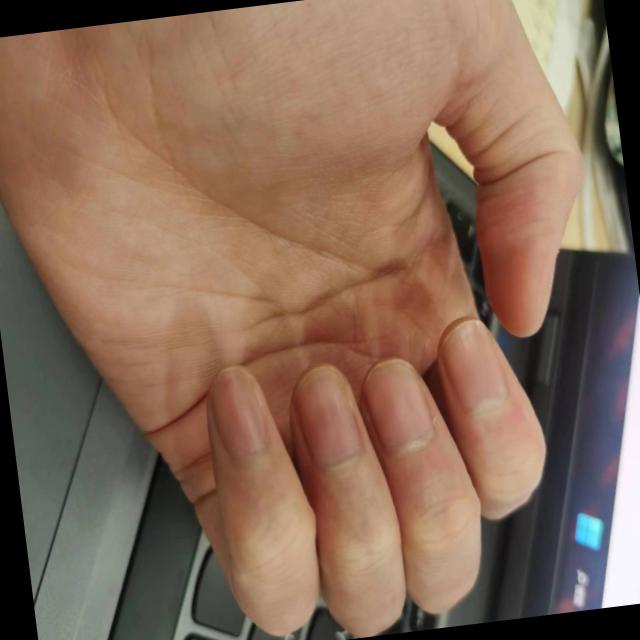Nail: (292, 367, 359, 473), (363, 359, 431, 454), (440, 320, 506, 416), (210, 365, 266, 462)
